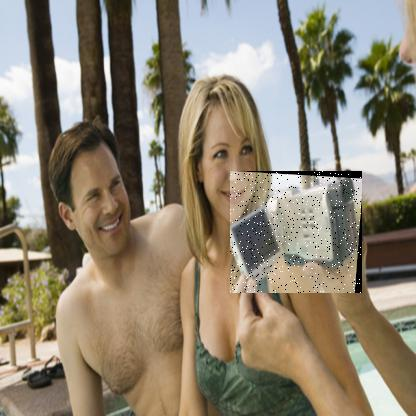Camera: (231, 172, 364, 295)
